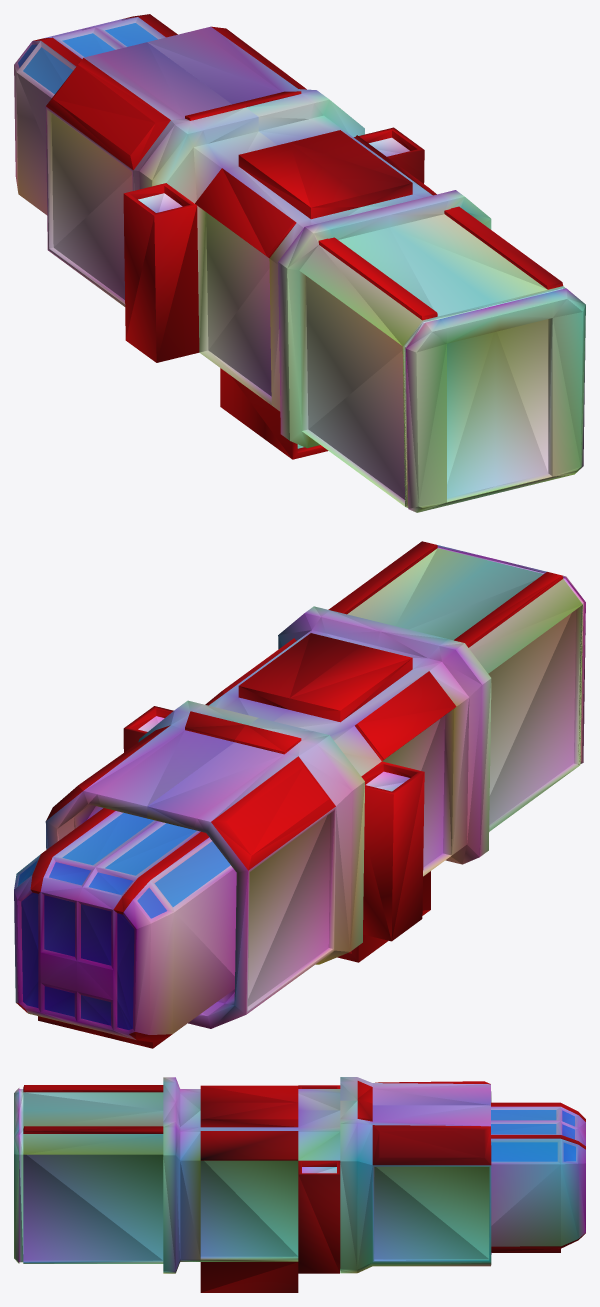
The model's file is Atlas.fbx.
3 views of the same model, one above another, from view 1: azimuth 30°, elevation 25°; view 2: azimuth 150°, elevation 25°; view 3: azimuth 270°, elevation 25° (orthographic). The views are drawn at different scales.
Parts seen in each view (by area): view 1: Plane; view 2: Plane; view 3: Plane.
Part boxes in pixels (x1=…): Plane: x1=14, y1=14, x2=585, y2=512; Plane: x1=14, y1=541, x2=585, y2=1048; Plane: x1=14, y1=1077, x2=585, y2=1292.
Size of the model in its own units: 828 by 740 by 2242.
